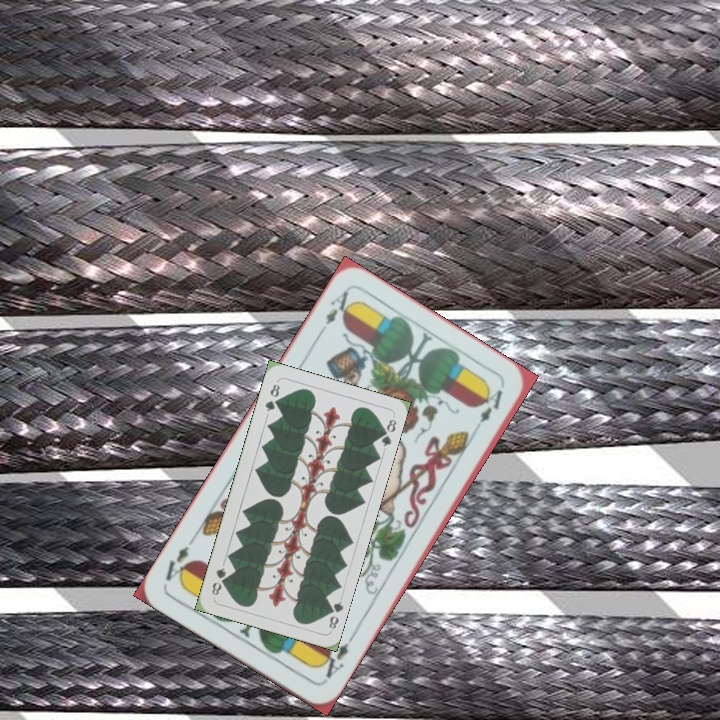EA: (316, 631, 357, 685), (314, 287, 355, 339)
G8: (322, 597, 346, 632), (261, 380, 282, 414)
